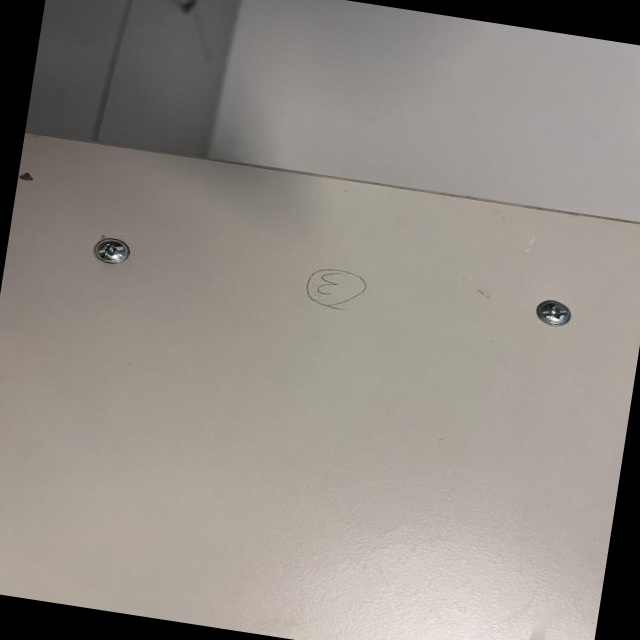pozidriv: (534, 298, 573, 330), (93, 236, 131, 267)
